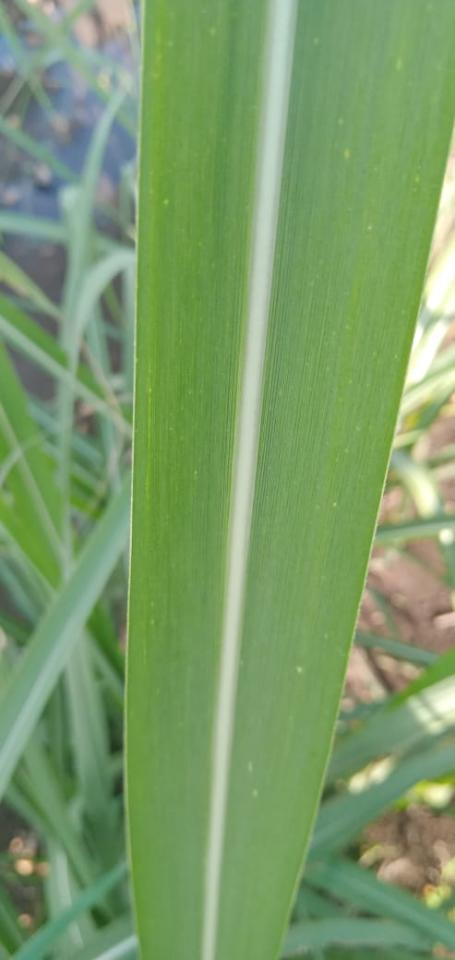Healthy: (218, 1, 452, 959), (125, 0, 267, 959)
